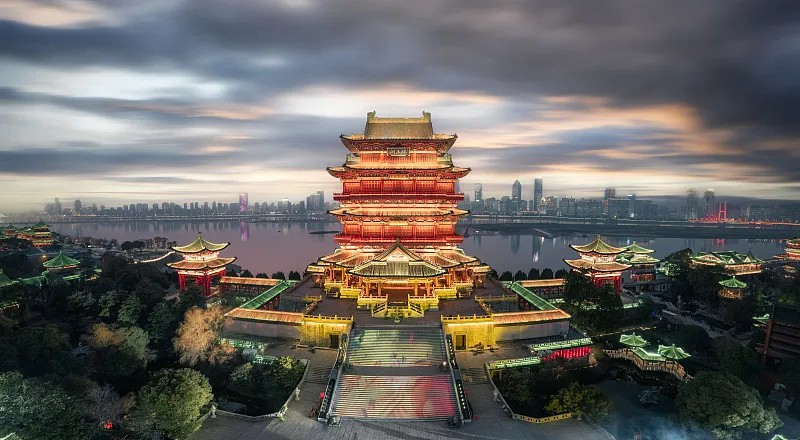Teng: (305, 109, 493, 298)
